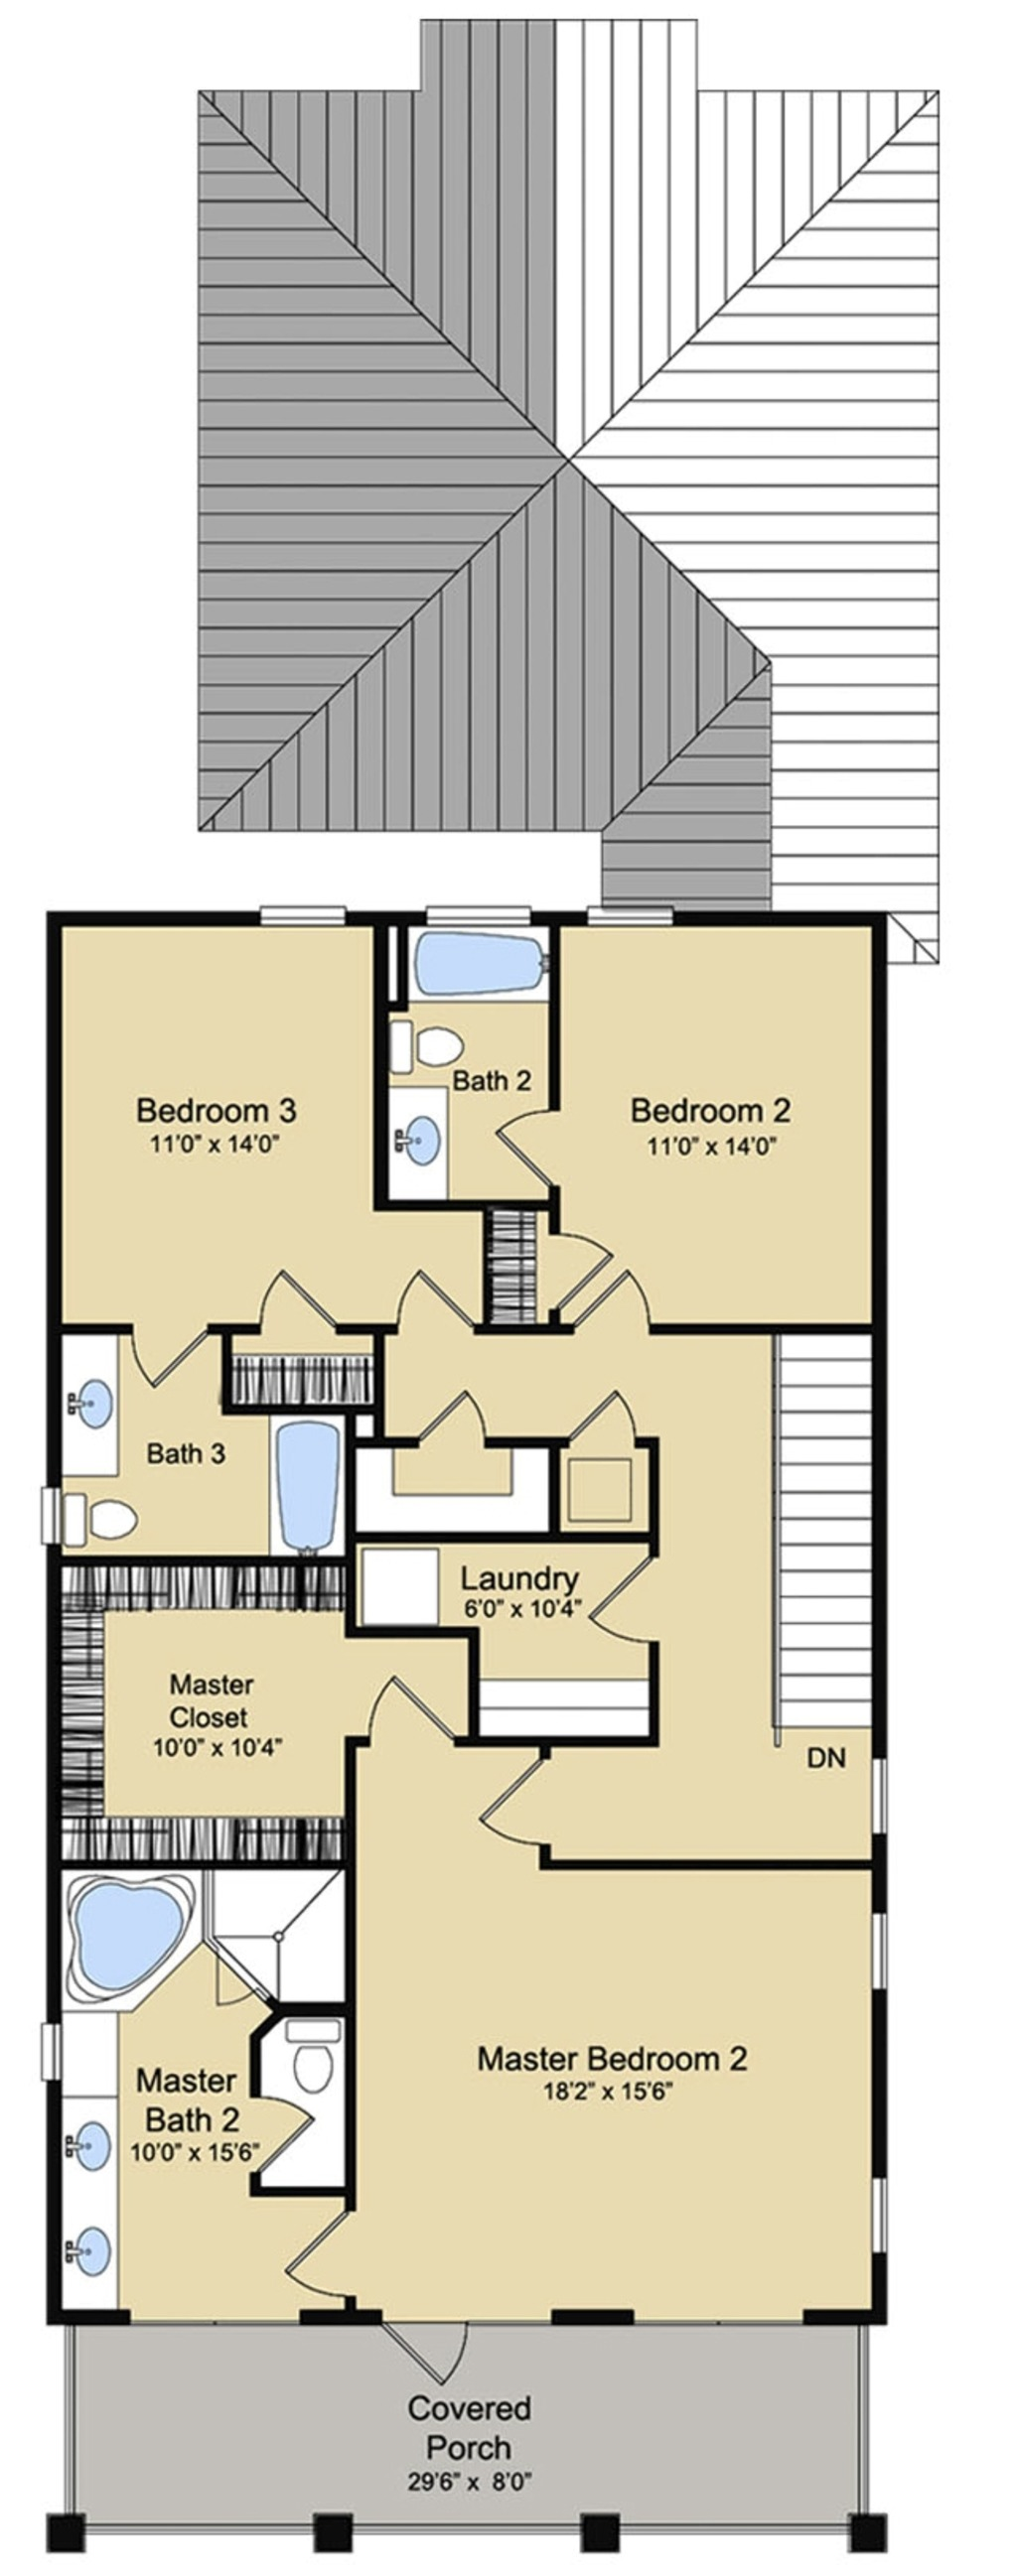door: (352, 1667, 453, 1753), (582, 1544, 664, 1649), (248, 1263, 348, 1349), (473, 1745, 545, 1860), (496, 1094, 578, 1189), (283, 2203, 358, 2305), (383, 1260, 476, 1334), (386, 2326, 481, 2394), (557, 1391, 639, 1452), (401, 1388, 478, 1452)
large_sink: (380, 1005, 468, 1089), (62, 1484, 156, 1561), (278, 2016, 348, 2101)
small_sink: (46, 2103, 125, 2298), (54, 1339, 125, 1475), (376, 1094, 453, 1203)
stairs: (757, 1323, 879, 1773)
tub: (398, 923, 547, 1005), (266, 1413, 348, 1554)
windows: (567, 904, 688, 945), (854, 2167, 904, 2265), (854, 1891, 897, 1996)
